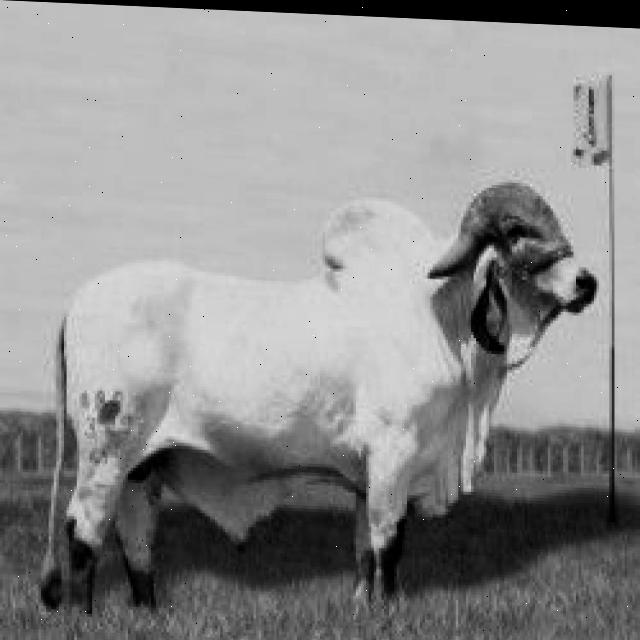Cow: (39, 159, 596, 637)
